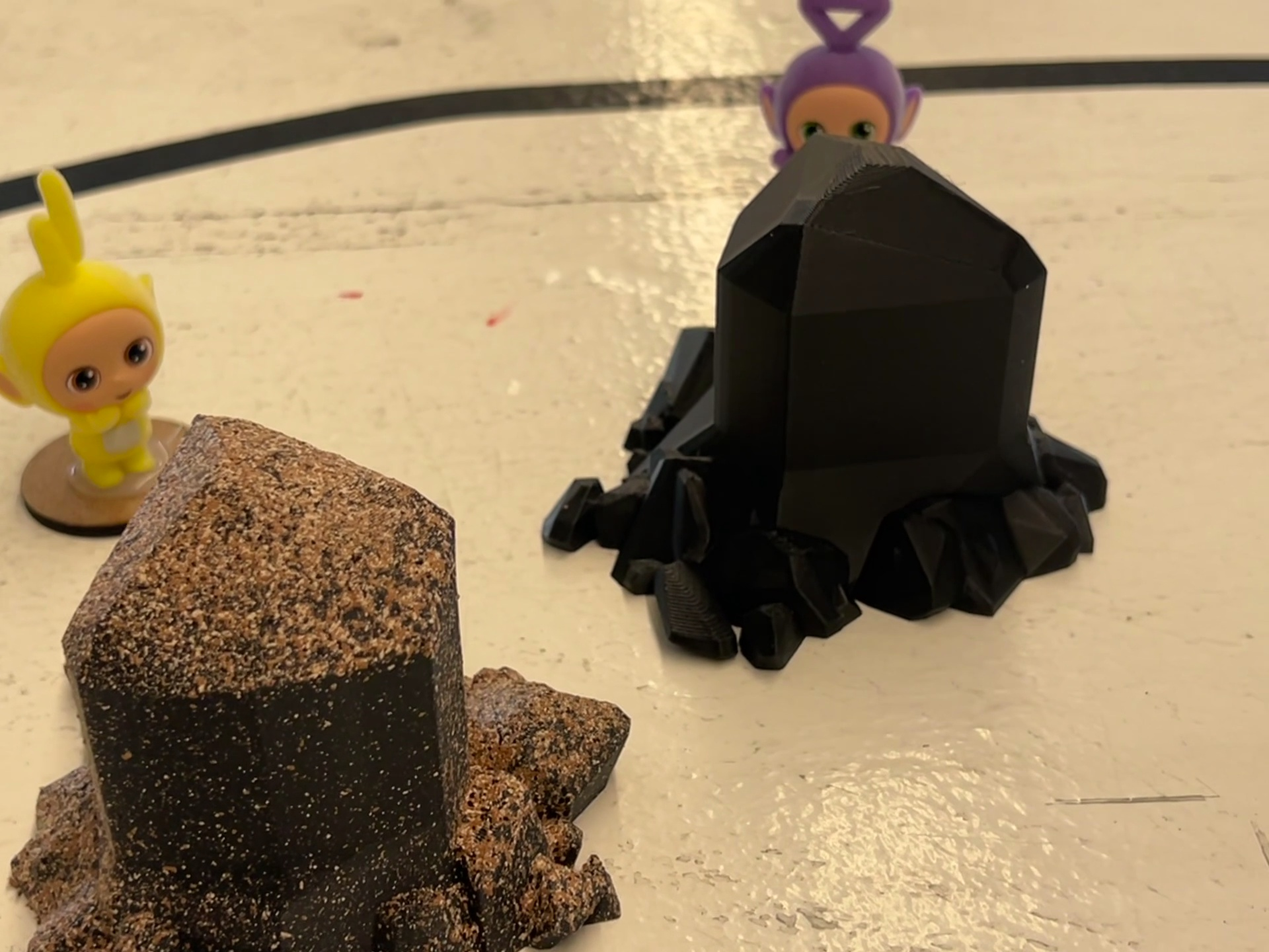teletubby: (0, 169, 164, 492), (760, 0, 922, 169)
